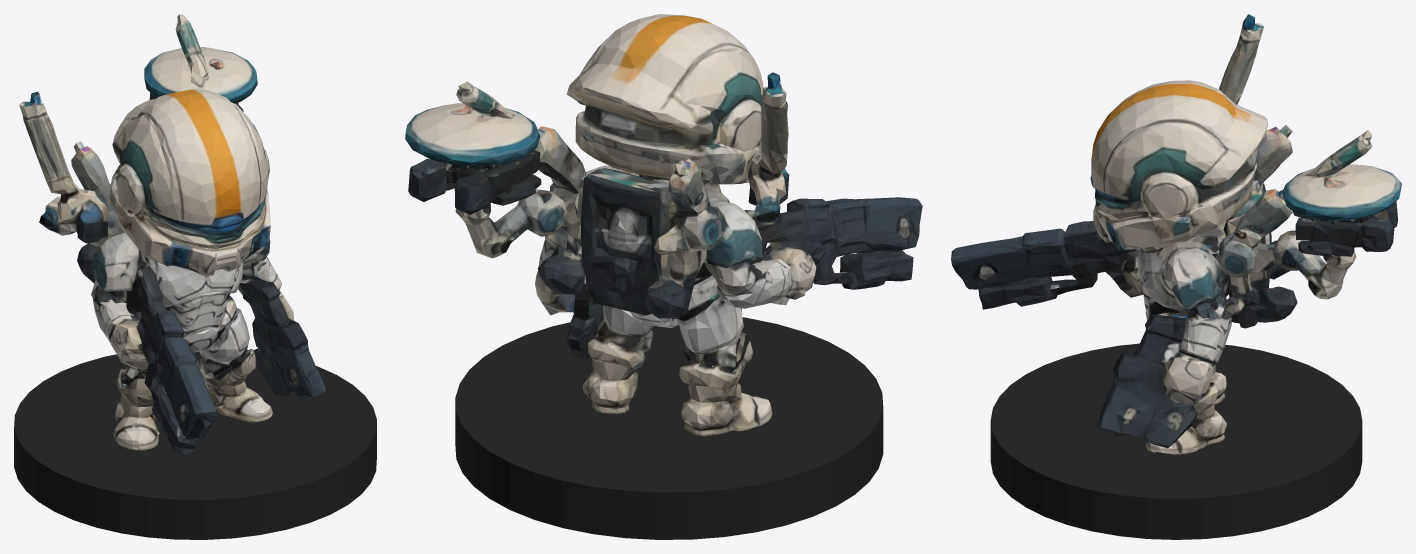
Rendered from fire-warrior-shasui.glb.
3 renders of one model, left to right at view 1: azimuth 30°, elevation 25°; view 2: azimuth 150°, elevation 25°; view 3: azimuth 270°, elevation 25°, orthographic. The views are drawn at different scales.
Visible parts, largest first — view 1: figure, base; view 2: figure, base; view 3: figure, base.
Boxes of the visible parts, bbox=[...] form: figure: bbox=[19, 14, 325, 455]; base: bbox=[14, 349, 376, 539]; figure: bbox=[405, 14, 922, 436]; base: bbox=[455, 317, 883, 539]; figure: bbox=[951, 14, 1401, 454]; base: bbox=[990, 343, 1362, 539].
Size of the model in its own units: 0.9843 by 1.12 by 1.19.
2 materials, 1 textured.
